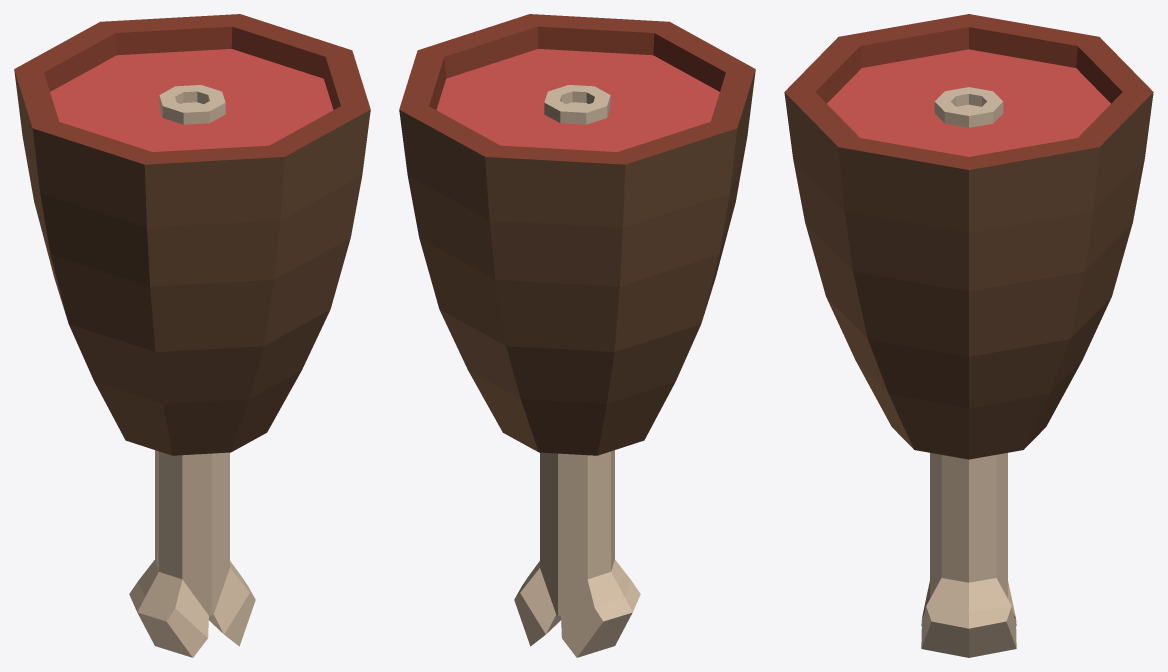
The model's file is Item_Beef.fbx.
3 renders of one model, left to right at view 1: azimuth 30°, elevation 25°; view 2: azimuth 150°, elevation 25°; view 3: azimuth 270°, elevation 25°, orthographic.
Parts seen in each view (by area): view 1: Plane; view 2: Plane; view 3: Plane.
Part boxes in pixels (x1=…): Plane: x1=14, y1=14, x2=370, y2=657; Plane: x1=399, y1=14, x2=755, y2=657; Plane: x1=784, y1=14, x2=1153, y2=657.
Bounding box in the file's own units: 250 × 409 × 250.
